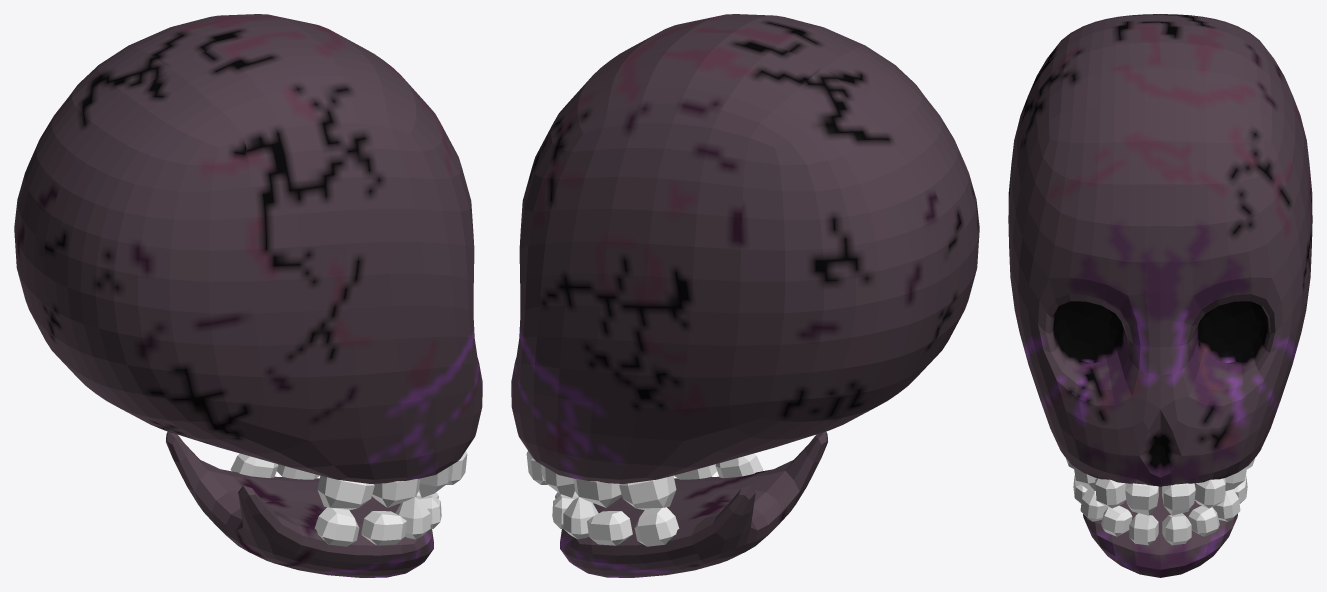
The model's file is skull.fbx.
The picture shows the model from 3 angles, left to right: view 1: azimuth 30°, elevation 25°; view 2: azimuth 150°, elevation 25°; view 3: azimuth 270°, elevation 25°; orthographic projection. The views are drawn at different scales.
Parts seen in each view (by area): view 1: Skull, Teeth.004, Teeth.003, Teeth.009, Teeth.002, Teeth.008, Teeth.007; view 2: Skull, Teeth.004, Teeth.003, Teeth.009, Teeth.002, Teeth.008, Teeth.007; view 3: Skull, Teeth.005, Teeth, Teeth.006, Teeth.001, Teeth.002, Teeth.007, Teeth.003.
Boxes of the visible parts, left/top/right/bottom form: Skull: left=14, top=14, right=482, bottom=577; Teeth.004: left=230, top=453, right=359, bottom=546; Teeth.003: left=277, top=464, right=406, bottom=545; Teeth.009: left=317, top=475, right=374, bottom=509; Teeth.002: left=395, top=497, right=430, bottom=539; Teeth.008: left=372, top=478, right=420, bottom=507; Teeth.007: left=418, top=464, right=452, bottom=497; Skull: left=511, top=14, right=979, bottom=577; Teeth.004: left=634, top=453, right=763, bottom=546; Teeth.003: left=587, top=464, right=716, bottom=545; Teeth.009: left=619, top=475, right=676, bottom=509; Teeth.002: left=563, top=497, right=598, bottom=539; Teeth.008: left=573, top=478, right=621, bottom=507; Teeth.007: left=541, top=464, right=575, bottom=497; Skull: left=1008, top=14, right=1312, bottom=577; Teeth.005: left=1125, top=483, right=1195, bottom=515; Teeth: left=1129, top=513, right=1191, bottom=545; Teeth.006: left=1095, top=478, right=1225, bottom=508; Teeth.001: left=1101, top=505, right=1219, bottom=536; Teeth.002: left=1080, top=489, right=1240, bottom=521; Teeth.007: left=1073, top=466, right=1247, bottom=491; Teeth.003: left=1073, top=475, right=1247, bottom=503.
Bounding box in the file's own units: 12.91 × 16.72 × 9.61.
Materials: 1 (1 with a texture image).
